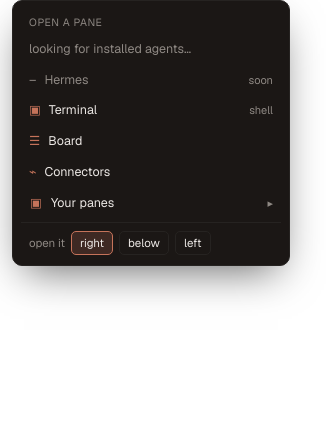
Scenario: your panes in the new-pane menu › lists the project's pane folders with their state and picks one as a free pane
Later steps or results of the test are not shown.
Click the menu item with test id "pick-free-menu". click: click(83, 202)
box: [21,188,281,218]
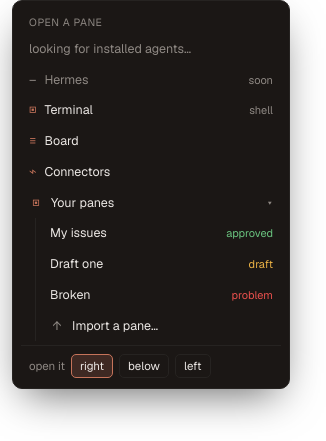
Expected: the menu item with test id "pick-free-my-issues" is shown, [42,218,281,249]
